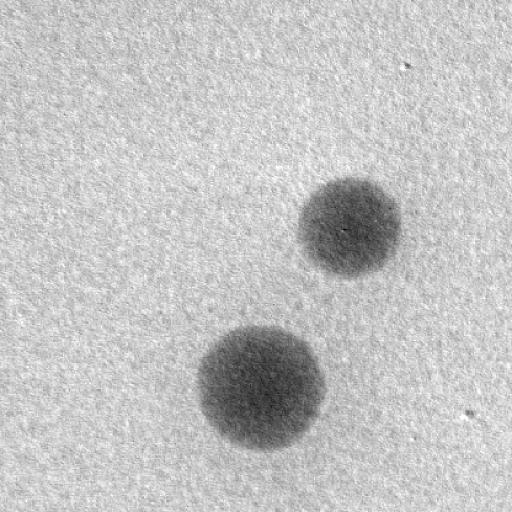Nanoparticles: (196, 322, 328, 454), (296, 172, 404, 284)
